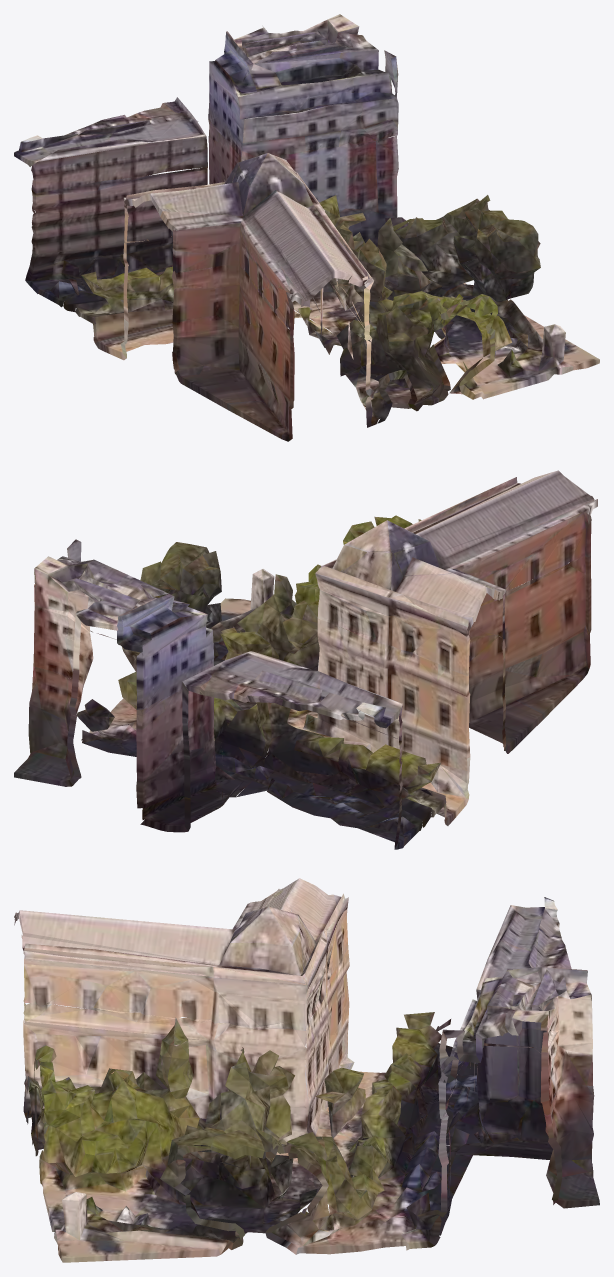
The picture shows the model from 3 angles, top to bottom: view 1: azimuth 30°, elevation 25°; view 2: azimuth 150°, elevation 25°; view 3: azimuth 270°, elevation 25°; orthographic projection. The views are drawn at different scales.
Parts seen in each view (by area): view 1: Mesh_0; view 2: Mesh_0; view 3: Mesh_0.
Boxes of the visible parts, x1=… form: Mesh_0: x1=14, y1=14, x2=599, y2=441; Mesh_0: x1=14, y1=470, x2=597, y2=849; Mesh_0: x1=14, y1=878, x2=599, y2=1262.
Size of the model in its own units: 66.53 by 36.49 by 82.45.
1 material, 1 textured.
